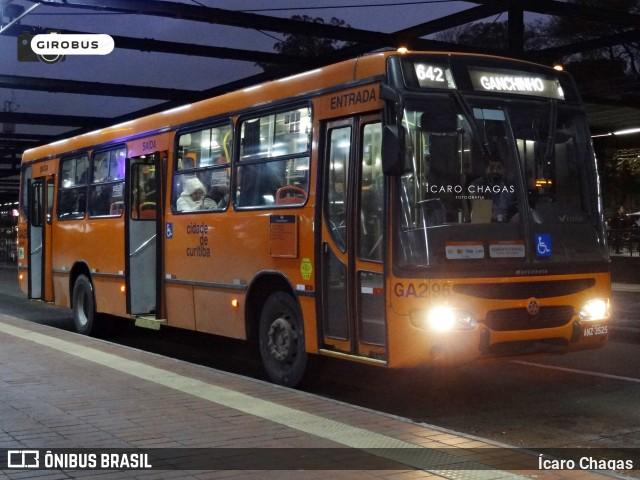GANCHINHO: (473, 69, 549, 93)
